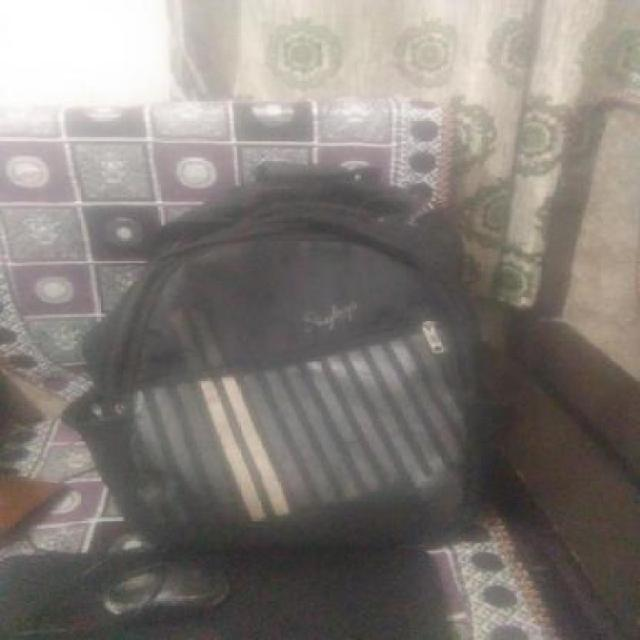backpack: (57, 154, 506, 563)
